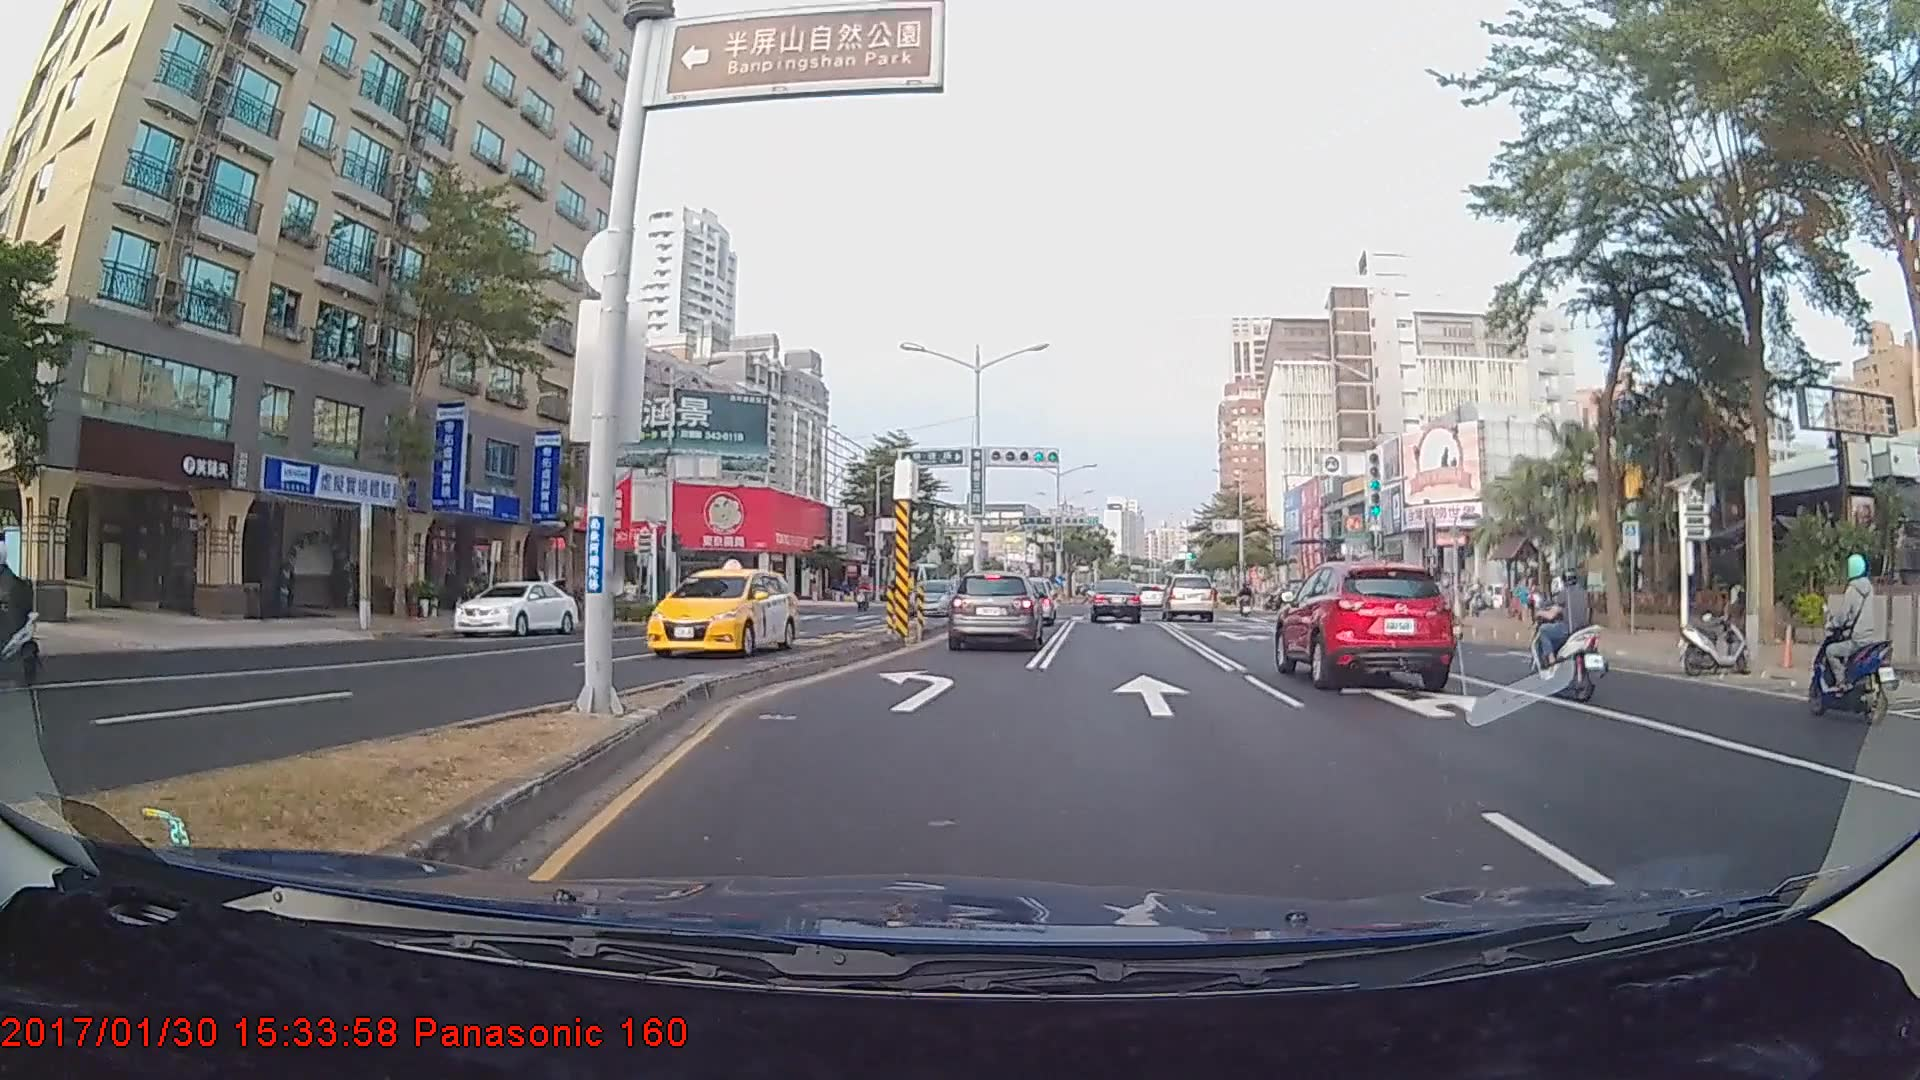rider: (1808, 551, 1901, 735), (1523, 564, 1611, 702), (1, 543, 47, 687)
vehicle: (1274, 555, 1454, 689), (645, 566, 798, 658), (947, 570, 1042, 650), (455, 580, 576, 640), (1162, 573, 1215, 623), (1087, 578, 1140, 624), (908, 579, 960, 616)
